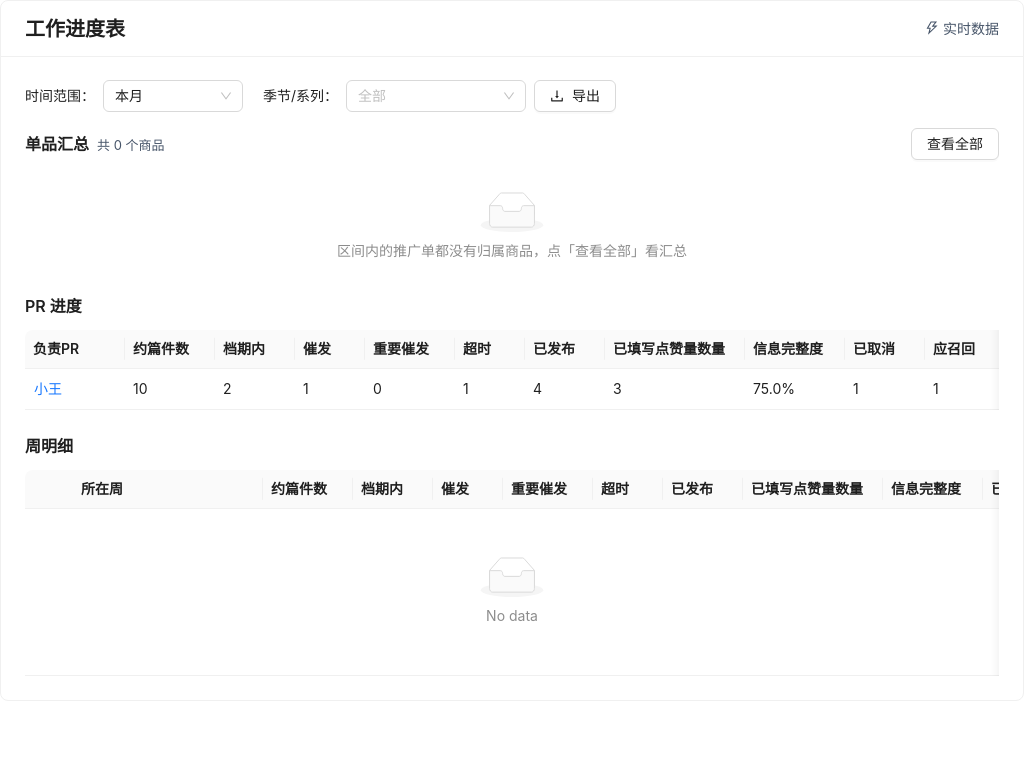
Test: WorkProgressPage 单品卡片 › 没有归属商品（total 0）：卡片区空态，查看全部第一页就是未归属
Check: the text "区间内的推广单都没有归属商品，点「查看全部」看汇总" is shown, box [337, 242, 687, 259]
Click the button "查看全部" at (955, 144), box [911, 128, 999, 160]
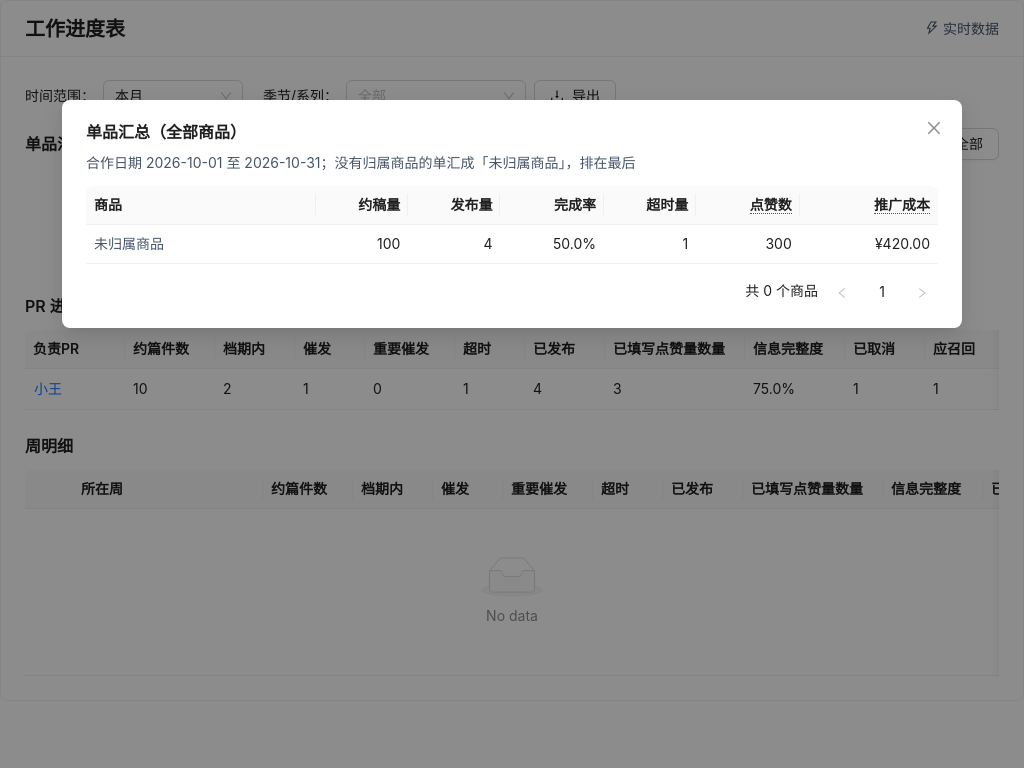
Check: the table shows "未归属商品", box [94, 235, 164, 252]
